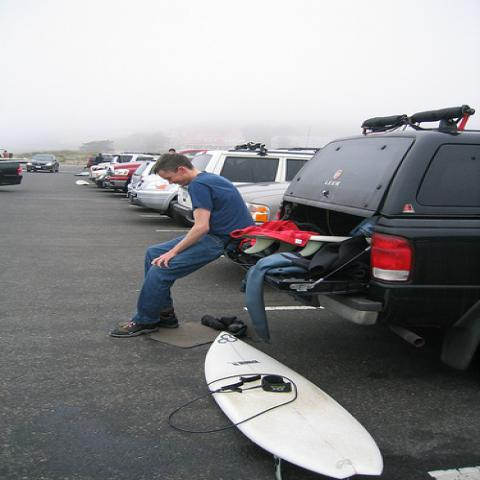car: (243, 106, 479, 371), (174, 151, 311, 223), (102, 149, 211, 193), (127, 160, 195, 227), (26, 154, 60, 172), (1, 161, 24, 187)
truck: (225, 104, 479, 373), (172, 149, 320, 215), (120, 152, 200, 219), (0, 161, 23, 187)
